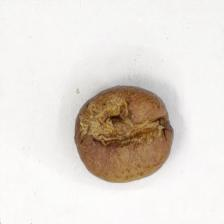NG: (79, 89, 165, 152)
